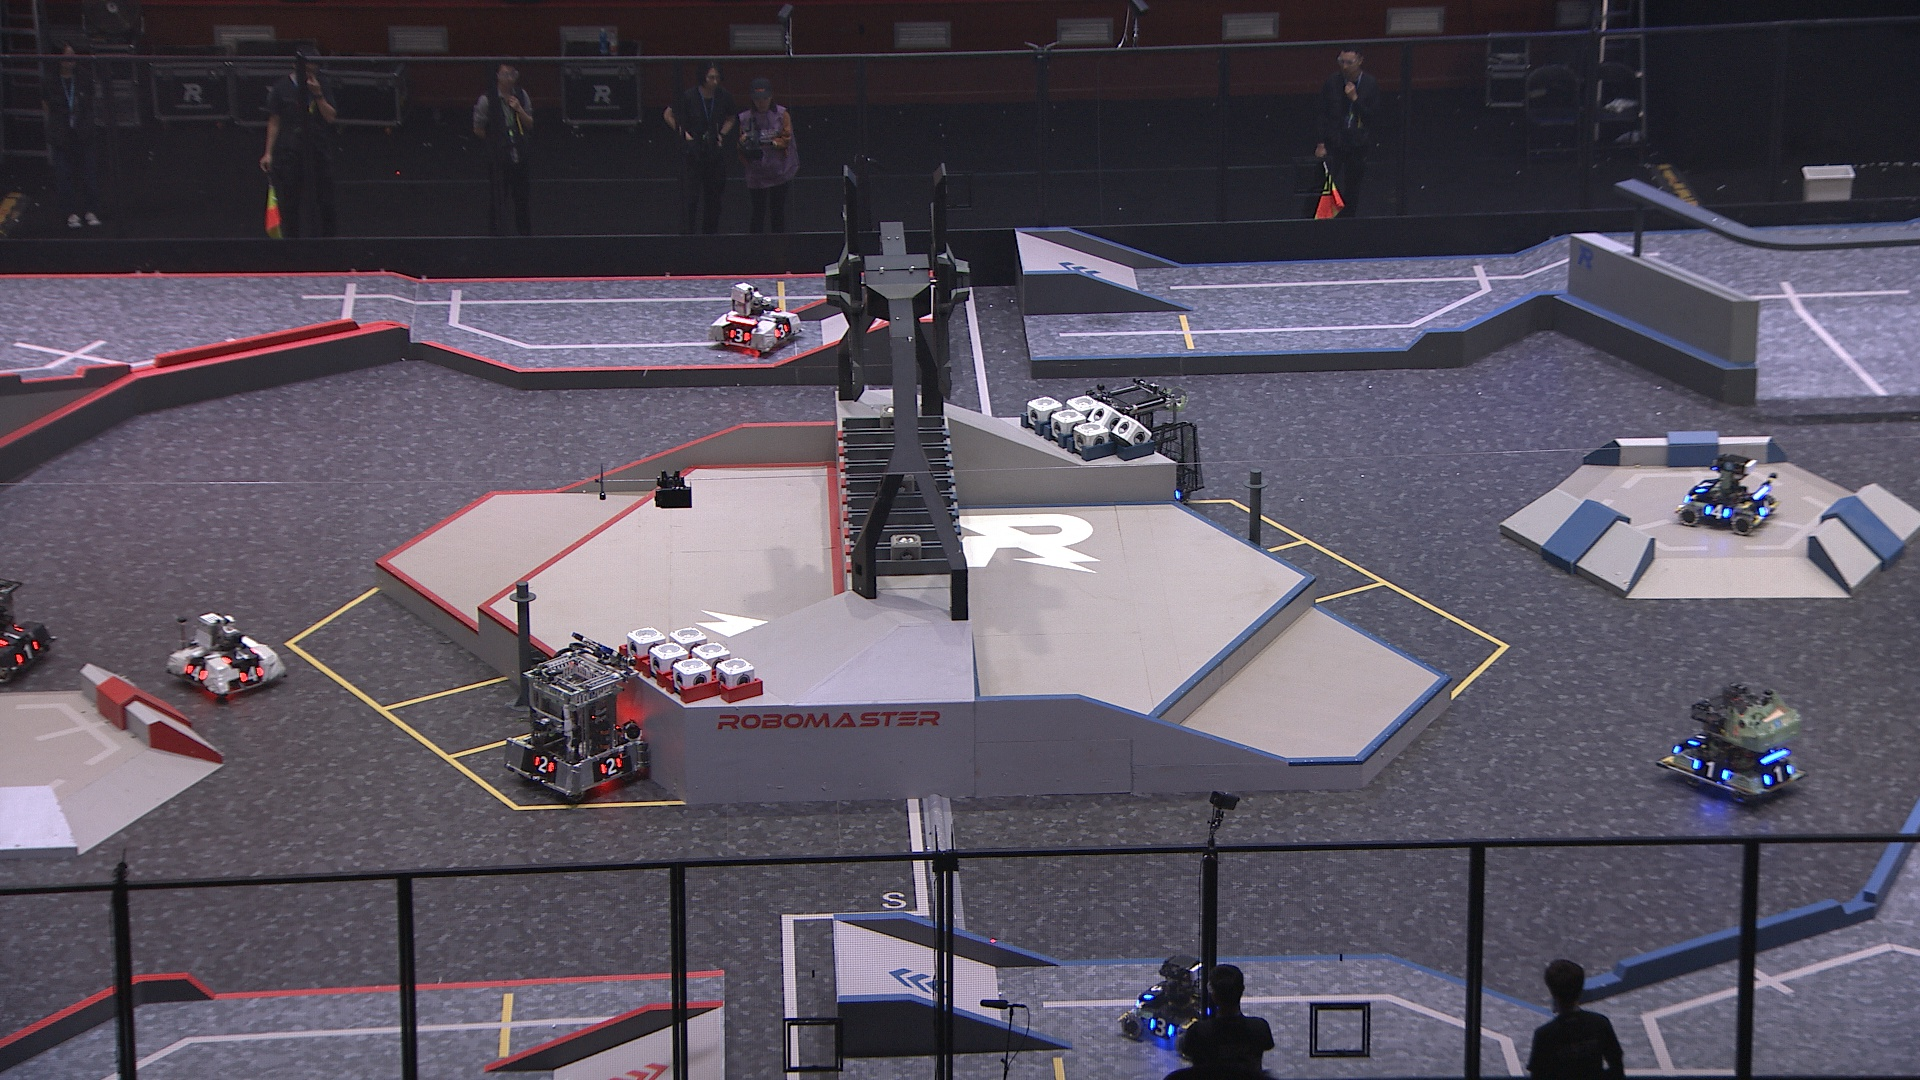armor: (1695, 757, 1733, 782), (13, 637, 41, 669), (1764, 760, 1795, 785), (222, 647, 258, 665), (531, 752, 556, 777), (240, 661, 266, 684), (1702, 501, 1731, 522), (1149, 1015, 1174, 1039), (185, 662, 210, 684), (597, 756, 624, 777), (0, 626, 25, 647), (1683, 732, 1709, 750), (1141, 982, 1162, 1004), (727, 328, 752, 344), (1692, 477, 1714, 495), (1756, 498, 1775, 518), (773, 323, 789, 342)
car: (505, 644, 647, 800), (1656, 680, 1807, 806), (1083, 380, 1205, 508), (1117, 953, 1238, 1059), (164, 612, 291, 705), (1673, 454, 1778, 533), (711, 282, 802, 357)
